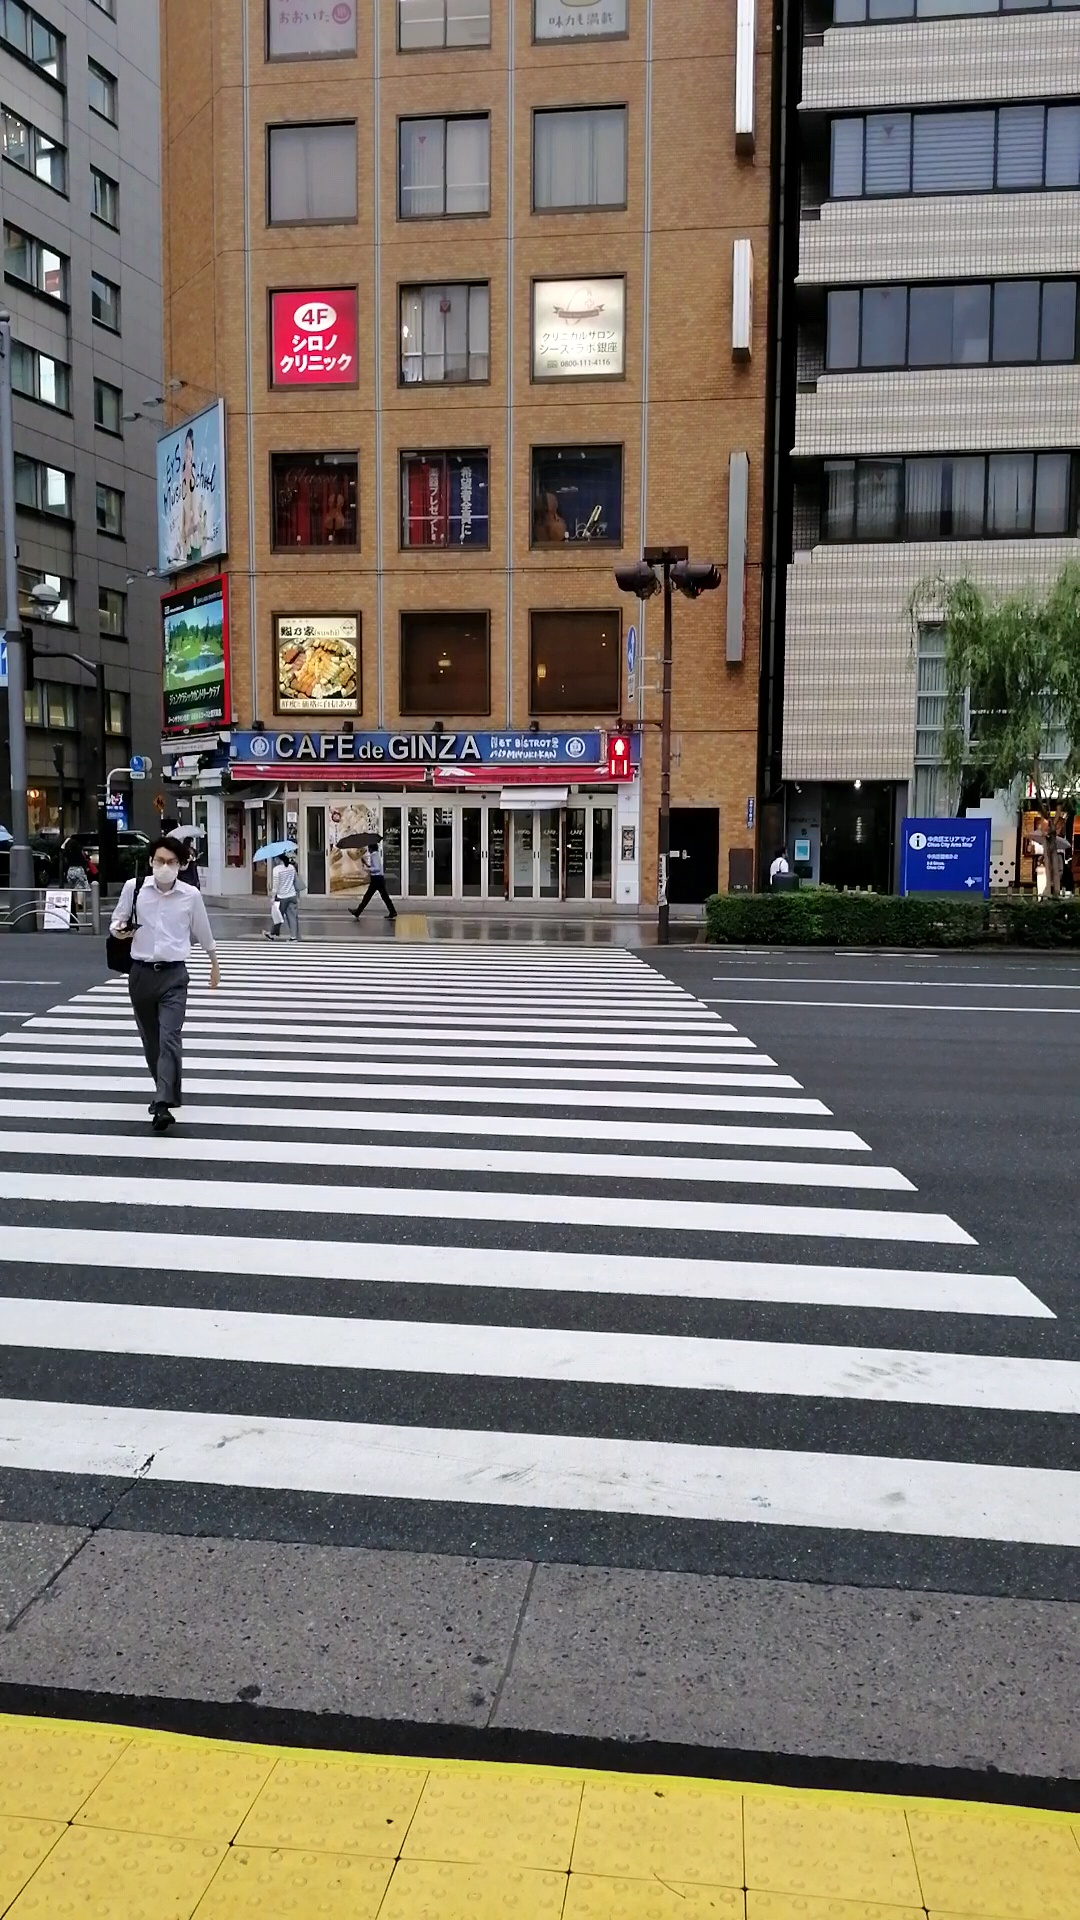red: (605, 733, 632, 778)
